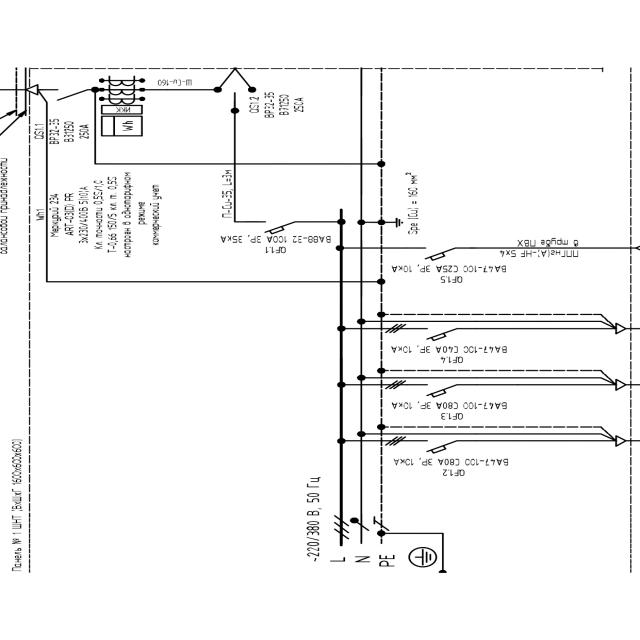-: (49, 172, 166, 258), (6, 436, 26, 573), (391, 454, 512, 467), (388, 342, 509, 355), (216, 234, 334, 247), (389, 399, 509, 411), (262, 91, 310, 120), (391, 263, 509, 274), (47, 118, 91, 146)
QF: (418, 436, 462, 454), (418, 324, 462, 342), (416, 244, 459, 262), (418, 382, 462, 399), (256, 218, 296, 235)
QS: (53, 87, 89, 102)
TT: (106, 75, 136, 105)
WH: (100, 115, 144, 137)
switch: (212, 81, 258, 112)
